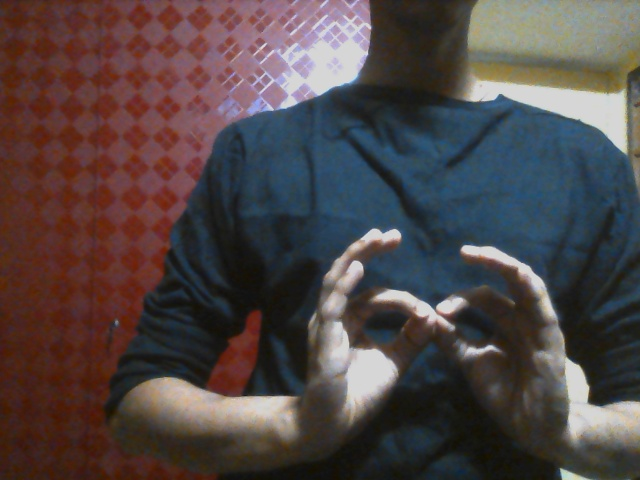B: (299, 224, 576, 467)
